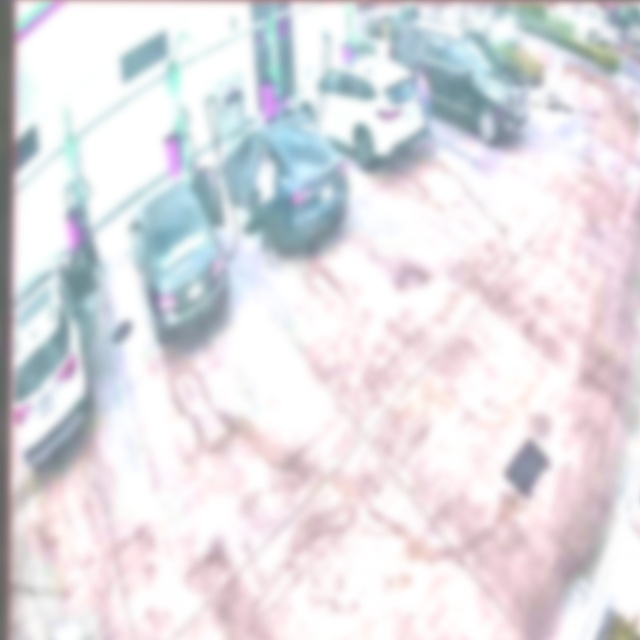Car: (224, 109, 348, 255), (129, 181, 225, 344), (299, 55, 424, 164)
